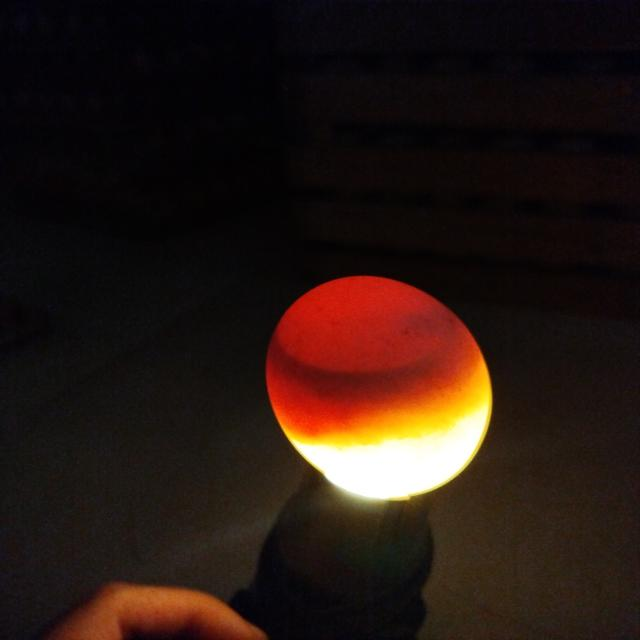Area Infectada: (265, 331, 452, 400)
